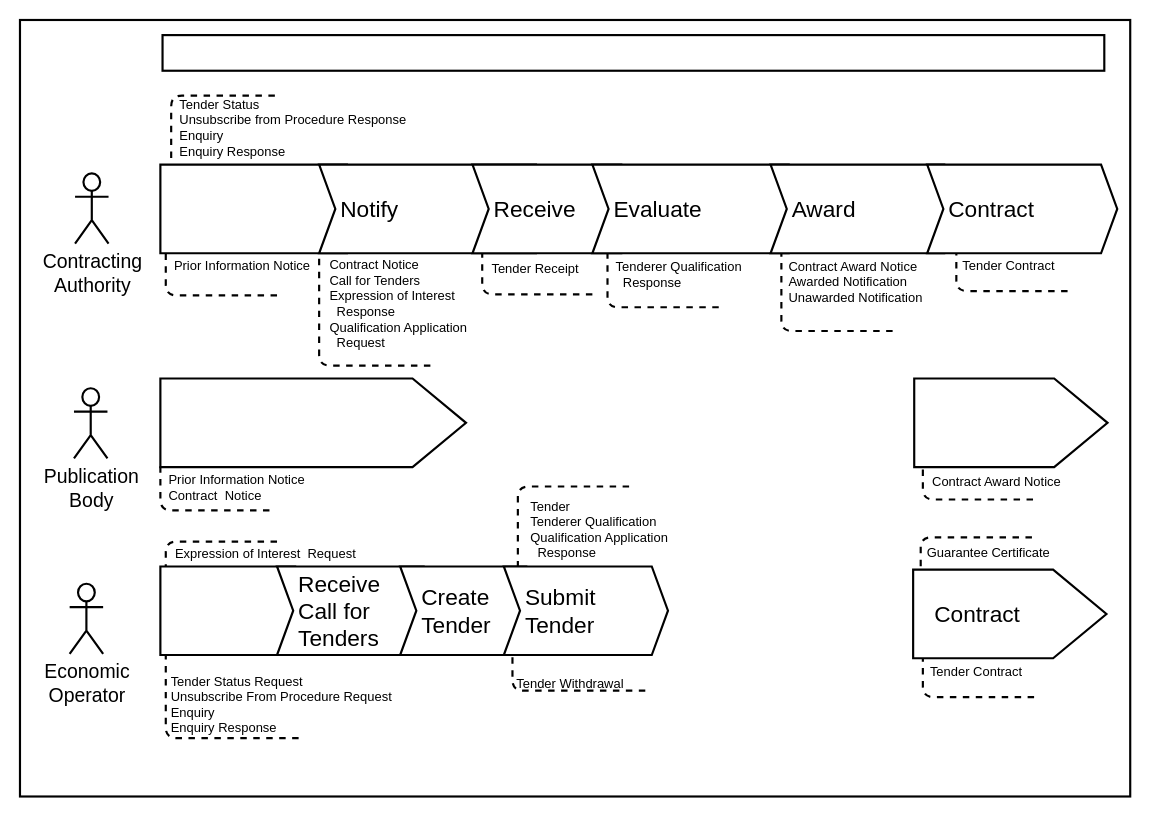
Image size: 1149x815. Some labels were removed from this diagram. Here are the shapes that lost their labels. From the top down, the box of each, then its label:
(161, 33, 1105, 71): Pre-award Process
(159, 163, 364, 254): Prepare
(159, 377, 467, 468): Publish Notices
(913, 377, 1108, 468): Publish Notice
(159, 565, 312, 656): Register
